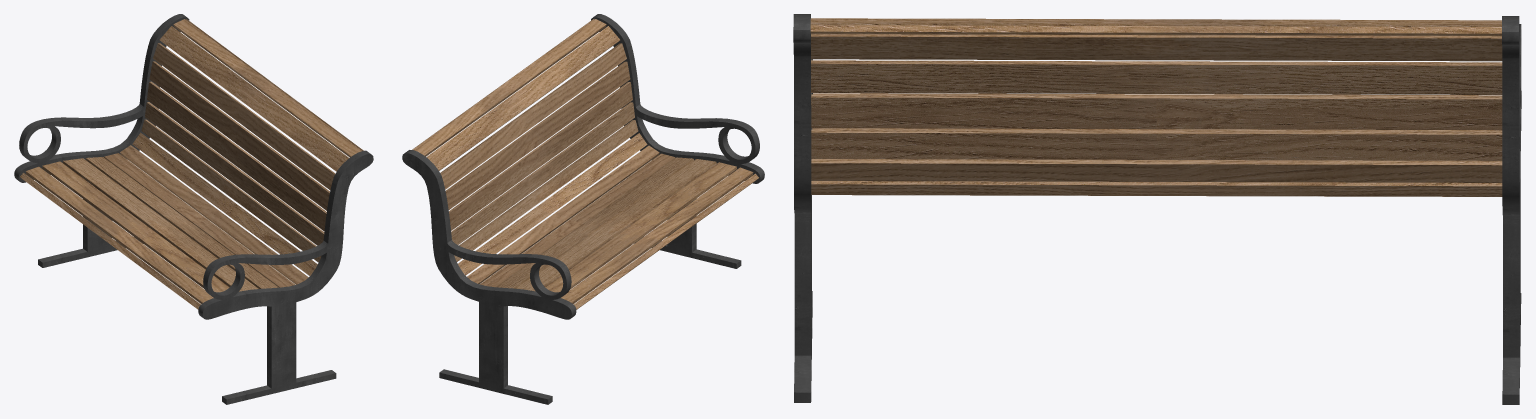
File: Bank.obj
3 renders of one model, left to right at view 1: azimuth 30°, elevation 25°; view 2: azimuth 150°, elevation 25°; view 3: azimuth 270°, elevation 25°, orthographic. The views are drawn at different scales.
Visible parts, largest first — view 1: Bank3:pasted__polySurface86group7 group1; view 2: Bank3:pasted__polySurface86group7 group1; view 3: Bank3:pasted__polySurface86group7 group1.
Boxes of the visible parts, left/top/right/bottom form: Bank3:pasted__polySurface86group7 group1: left=14, top=14, right=373, bottom=404; Bank3:pasted__polySurface86group7 group1: left=402, top=14, right=764, bottom=404; Bank3:pasted__polySurface86group7 group1: left=793, top=14, right=1521, bottom=404.
Size of the model in its own units: 2.43 by 2.93 by 4.68.
2 materials, 2 textured.
